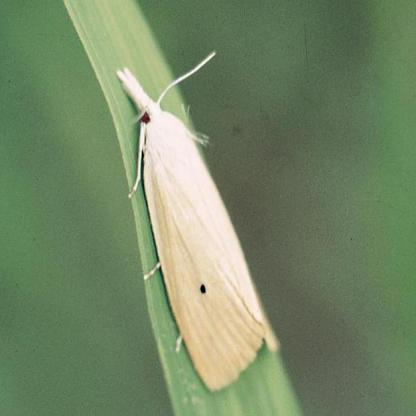stem-borer: (113, 61, 283, 396)
